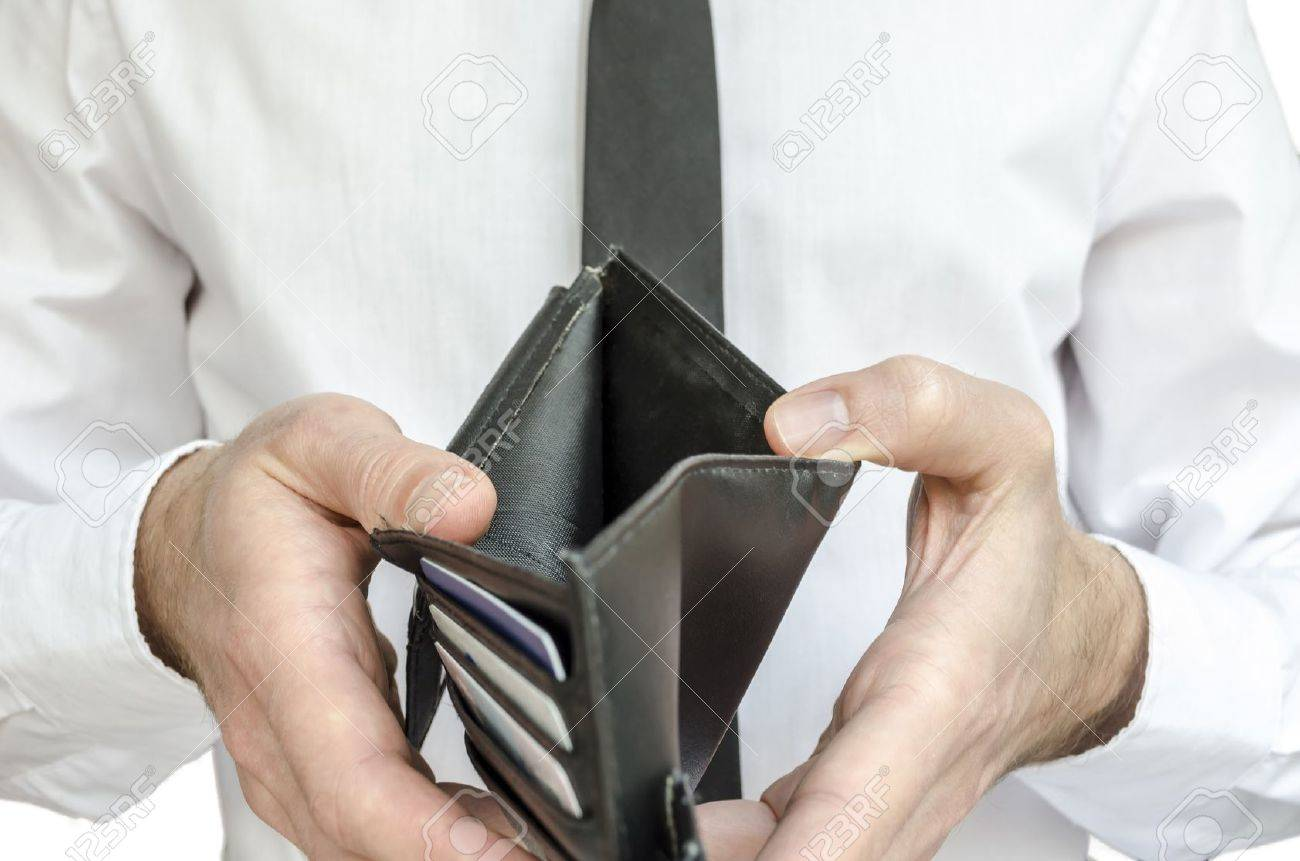monedero: (367, 241, 872, 861)
